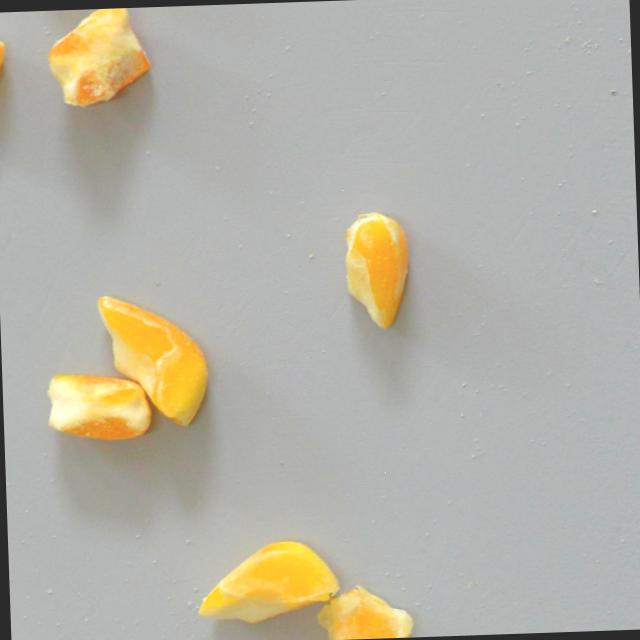pelicula: (94, 291, 210, 428), (194, 538, 340, 624), (44, 6, 152, 110), (340, 212, 410, 331), (46, 371, 151, 444), (321, 583, 413, 640), (0, 25, 10, 134)
